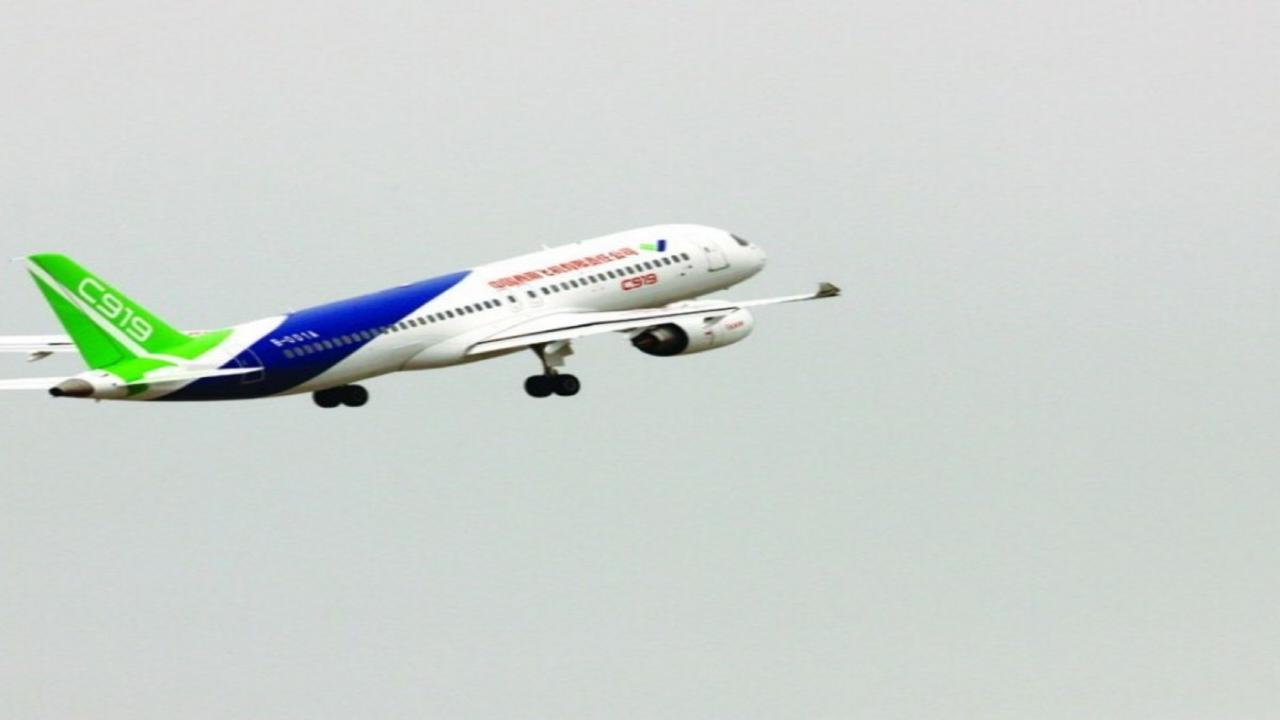Airplane: (0, 210, 863, 419)
